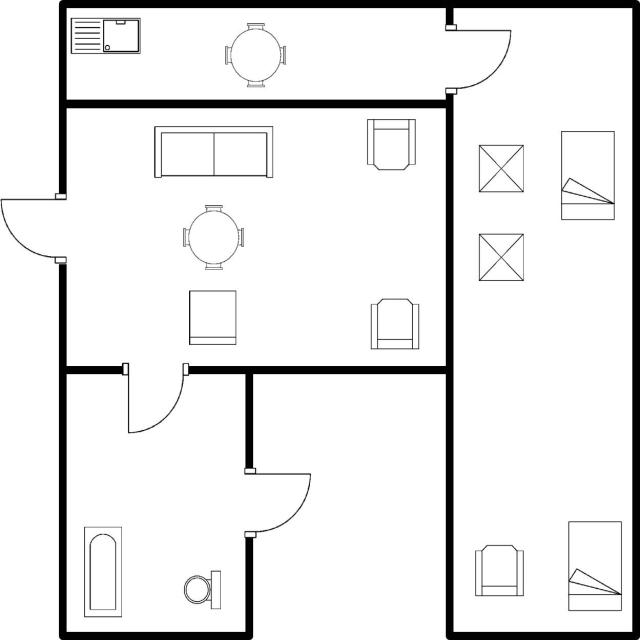armchair: (470, 539, 527, 604), (366, 294, 423, 353), (363, 116, 419, 176)
bed: (564, 516, 625, 615), (558, 127, 617, 223)
coffee_table: (472, 228, 530, 285), (474, 139, 529, 197)
large_sink: (180, 566, 224, 614)
large_sofa: (151, 122, 276, 181)
round_table: (175, 198, 255, 274), (222, 18, 289, 89)
sink: (68, 14, 144, 57)
small_sofa: (182, 282, 241, 349)
tub: (80, 523, 125, 622)
